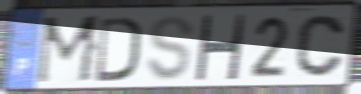2: (251, 14, 291, 79)
C: (294, 12, 346, 79)
D: (94, 15, 142, 84)
H: (192, 14, 248, 82)
M: (33, 13, 103, 87)
S: (144, 14, 196, 83)
